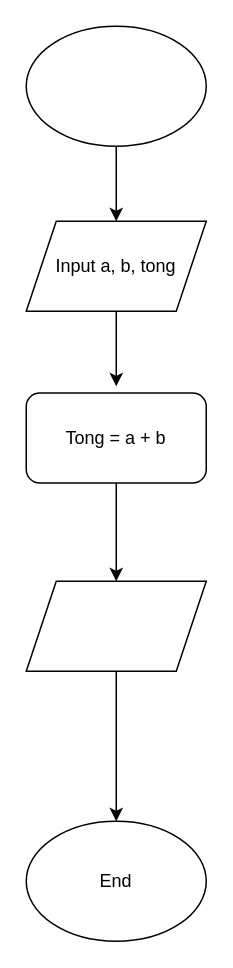
Image size: 233x968. Some labels were removed from this diagram. The centre of each missing label's shape, as x and y in pixels:
"Output tong" goes at (x=115, y=625).
"Start" goes at (x=115, y=85).
